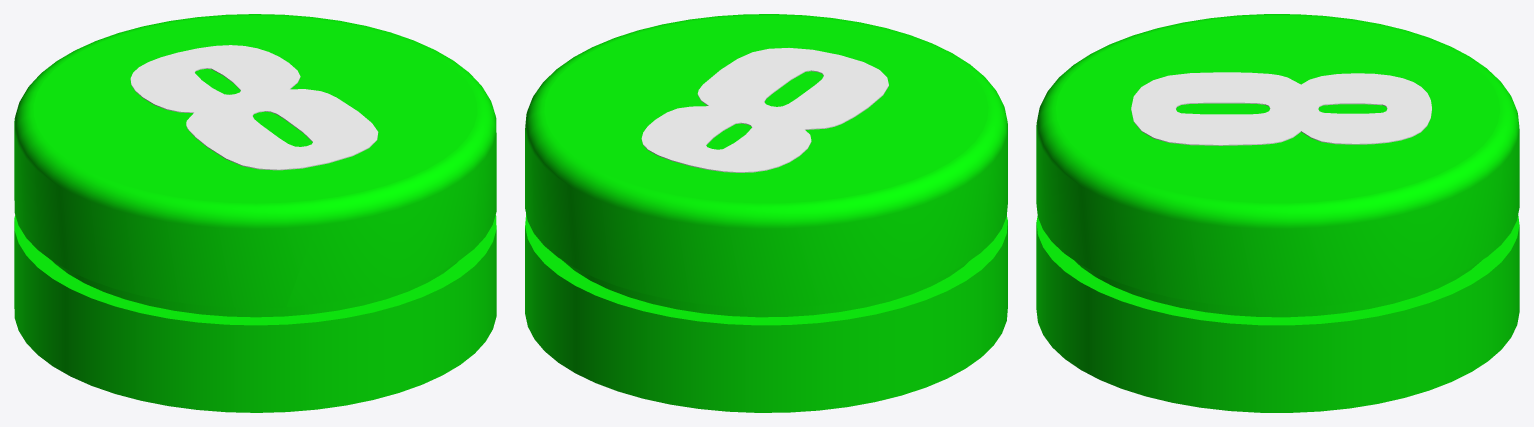
The model's file is nubot_frame8_green.dae.
3 renders of one model, left to right at view 1: azimuth 30°, elevation 25°; view 2: azimuth 150°, elevation 25°; view 3: azimuth 270°, elevation 25°, orthographic.
Parts seen in each view (by area): view 1: SketchUp (×3), instance_0; view 2: SketchUp (×3), instance_0; view 3: SketchUp (×3), instance_0.
Boxes of the visible parts, <box> form: SketchUp (×3): <box>14,14,496,412</box>; instance_0: <box>130,45,378,170</box>; SketchUp (×3): <box>525,14,1007,412</box>; instance_0: <box>641,48,888,172</box>; SketchUp (×3): <box>1036,14,1519,412</box>; instance_0: <box>1131,72,1431,145</box>.
Size of the model in its own units: 19.66 by 19.68 by 9.09.
